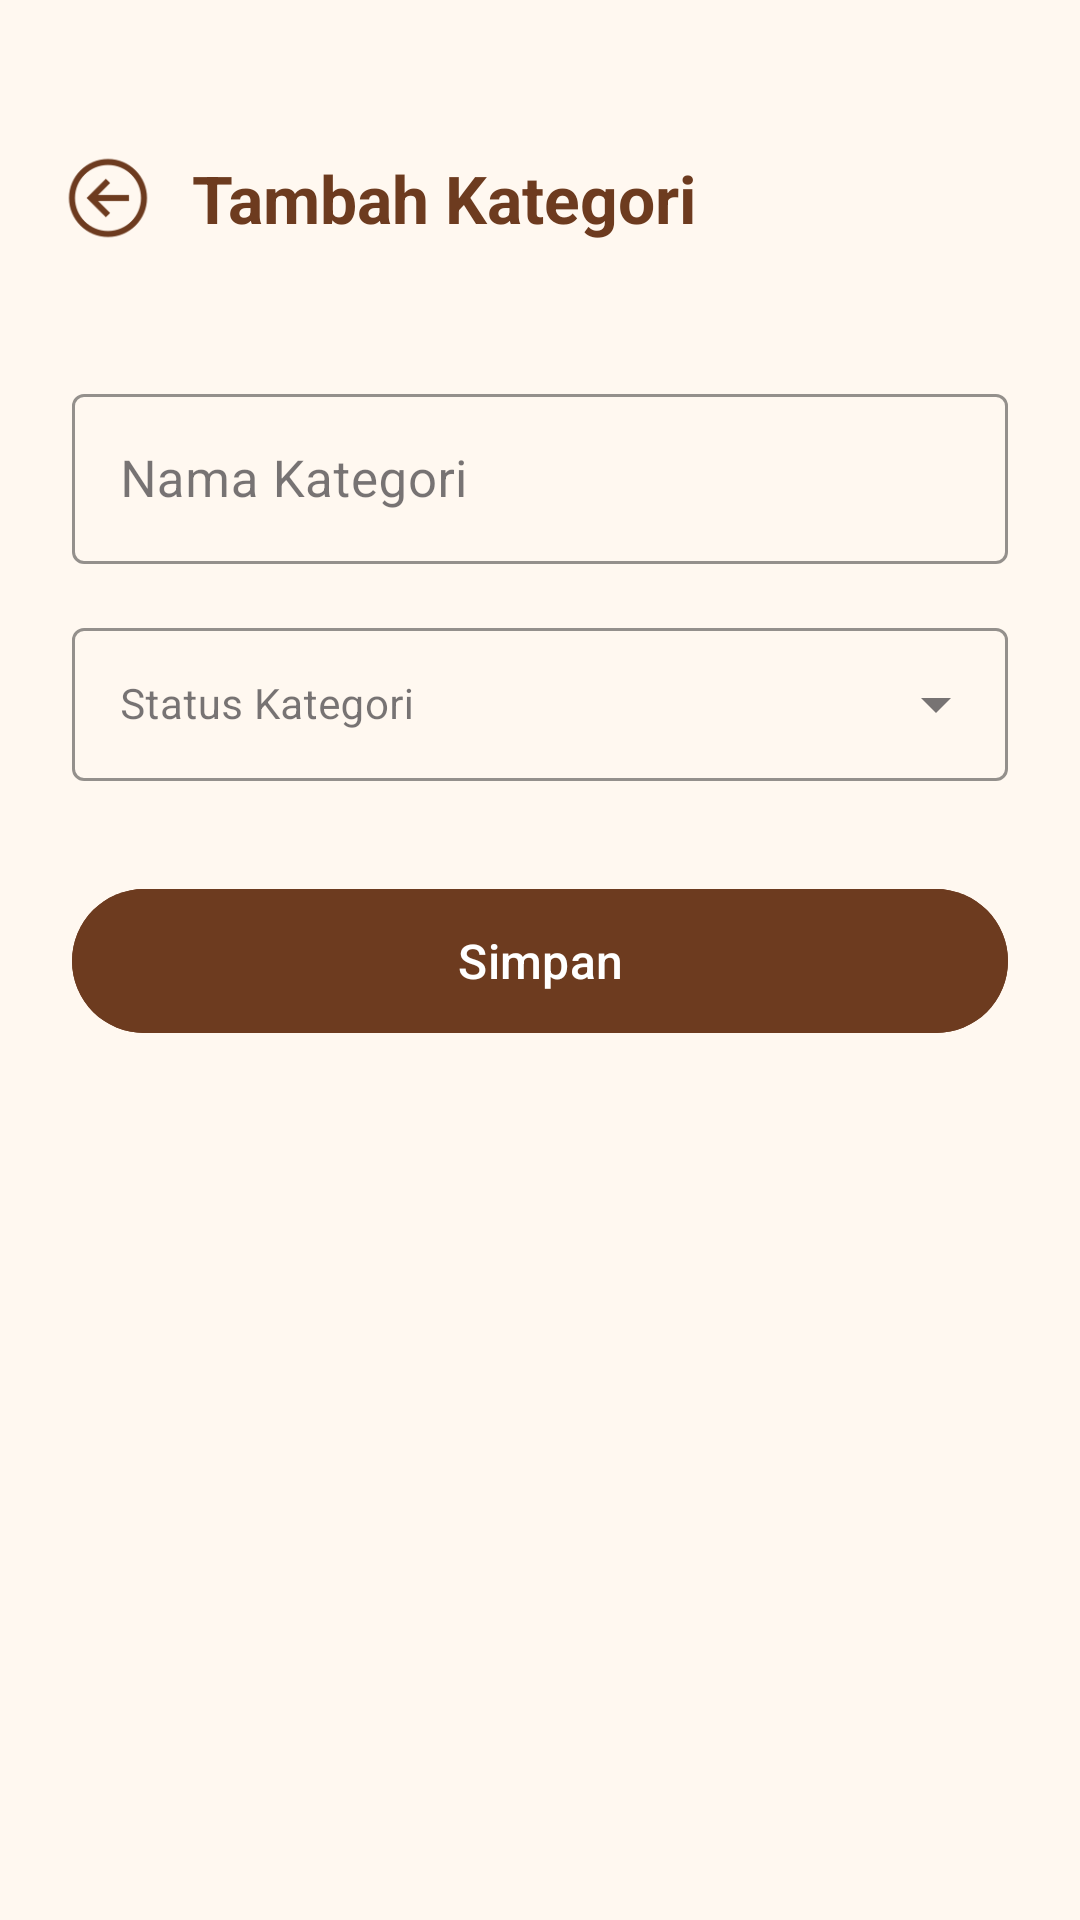

Where to tap for icons on this 1080 × 1920 app screen, as (x=x, y=y):
Back: (x=108, y=198)
